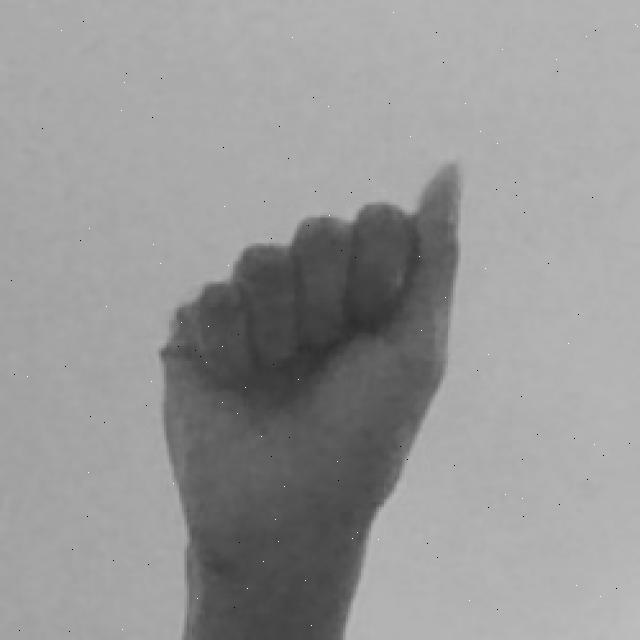A: (148, 158, 472, 640)
